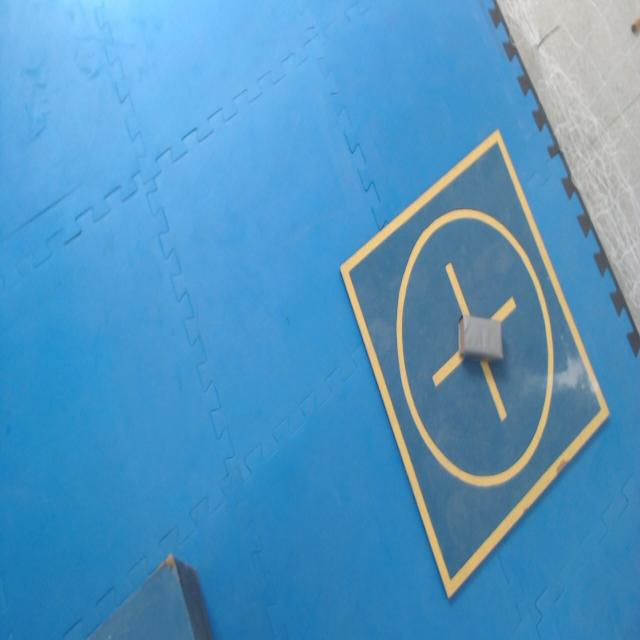horizontal: (458, 315, 503, 363)
